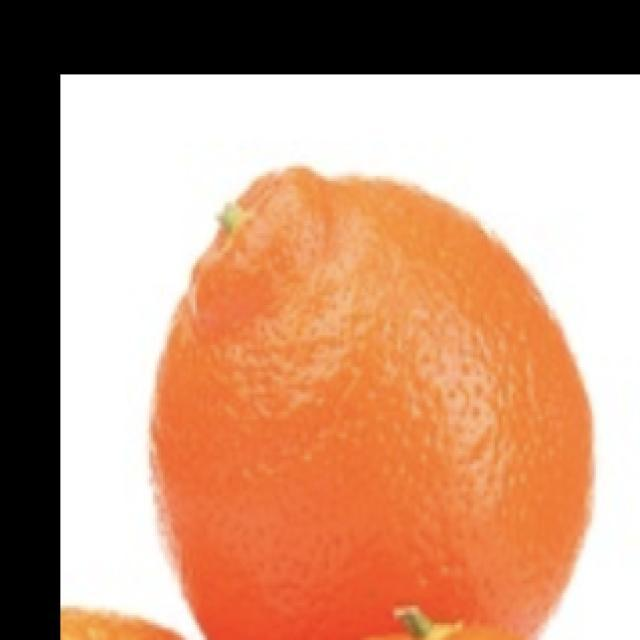Orange: (147, 164, 596, 639)
